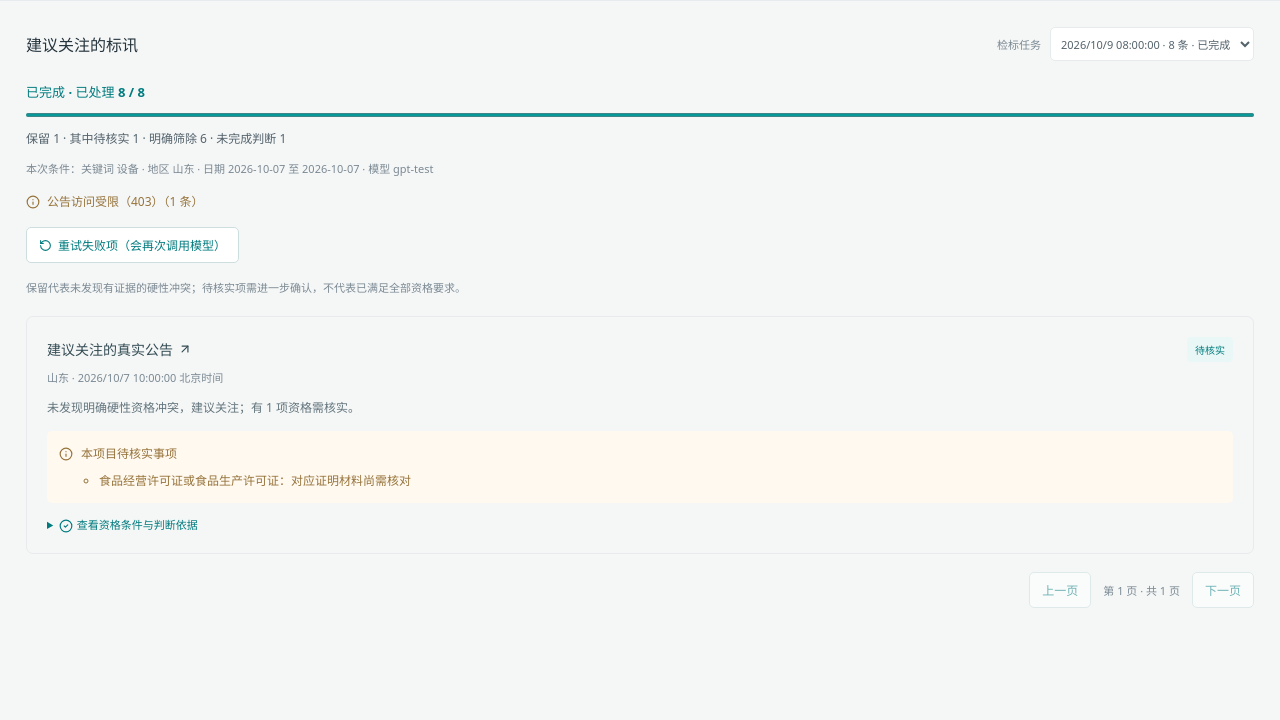
Test: labels supplementary references and inapplicable branches inside the existing detail layout
Expected: the link "建议关注的真实公告" is shown, [47,337,192,362]
Expected: the text "分支机构授权" is not shown
Click the heading "查看资格条件与判断依据": (128, 525) [59,517,198,533]
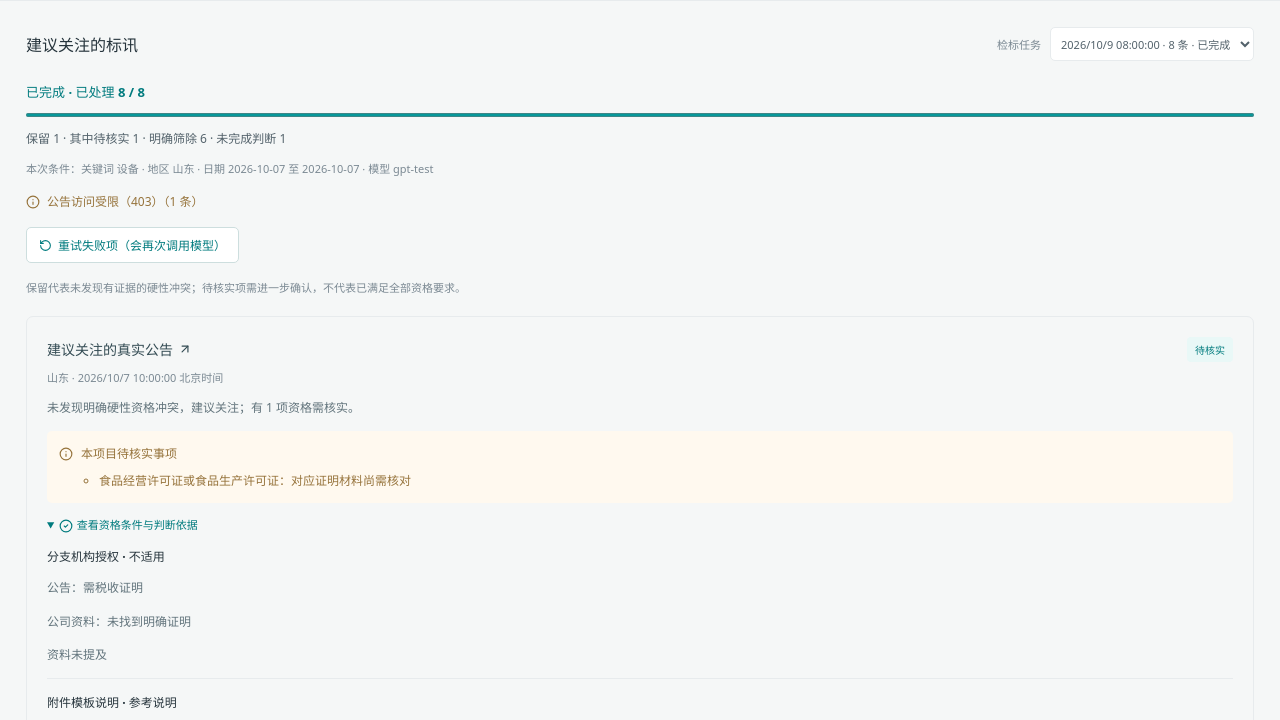
Result: the text "分支机构授权 · 不适用" is shown at [47,548,165,565]
Result: the text "附件模板说明 · 参考说明" is shown at [47,694,177,711]
